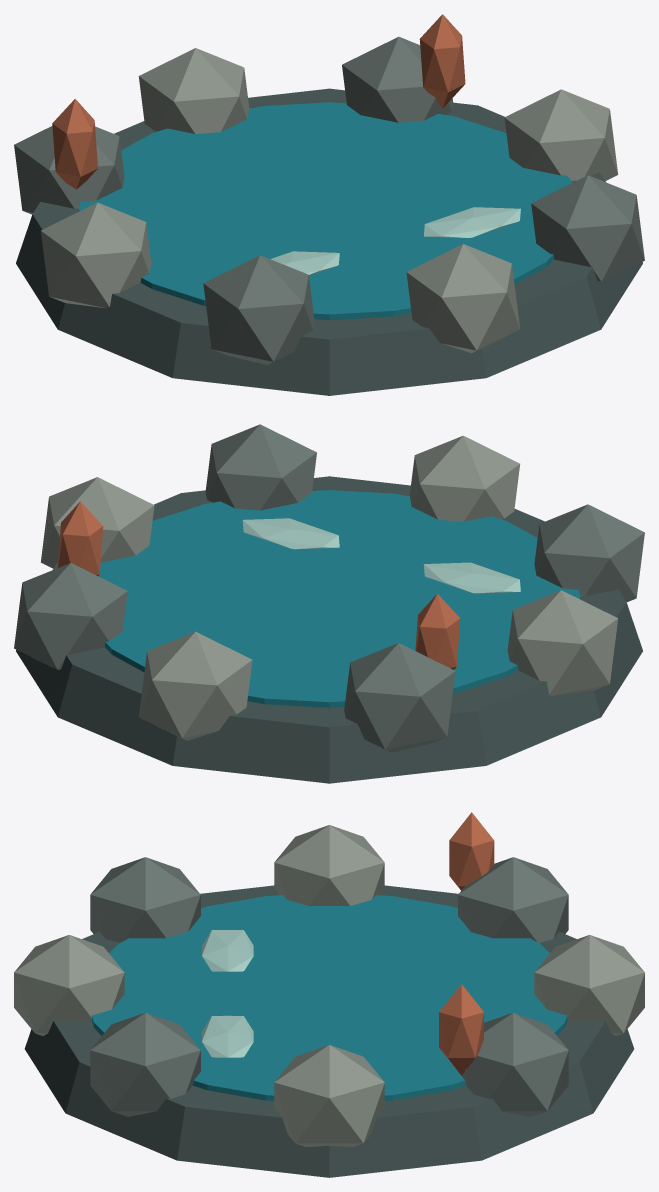
The model's file is PirateCove_TidePoolRocks_Showcase.glb.
3 renders of one model, top to bottom at view 1: azimuth 30°, elevation 25°; view 2: azimuth 150°, elevation 25°; view 3: azimuth 270°, elevation 25°, orthographic. The views are drawn at different scales.
Visible parts, largest first — view 1: PirateCove_TidePoolRocks_Showcase; view 2: PirateCove_TidePoolRocks_Showcase; view 3: PirateCove_TidePoolRocks_Showcase.
Boxes of the visible parts, <box> form: PirateCove_TidePoolRocks_Showcase: <box>14,14,644,395</box>; PirateCove_TidePoolRocks_Showcase: <box>14,424,644,783</box>; PirateCove_TidePoolRocks_Showcase: <box>14,812,644,1177</box>.
Bounding box in the file's own units: 3.1 × 0.82 × 3.1.
